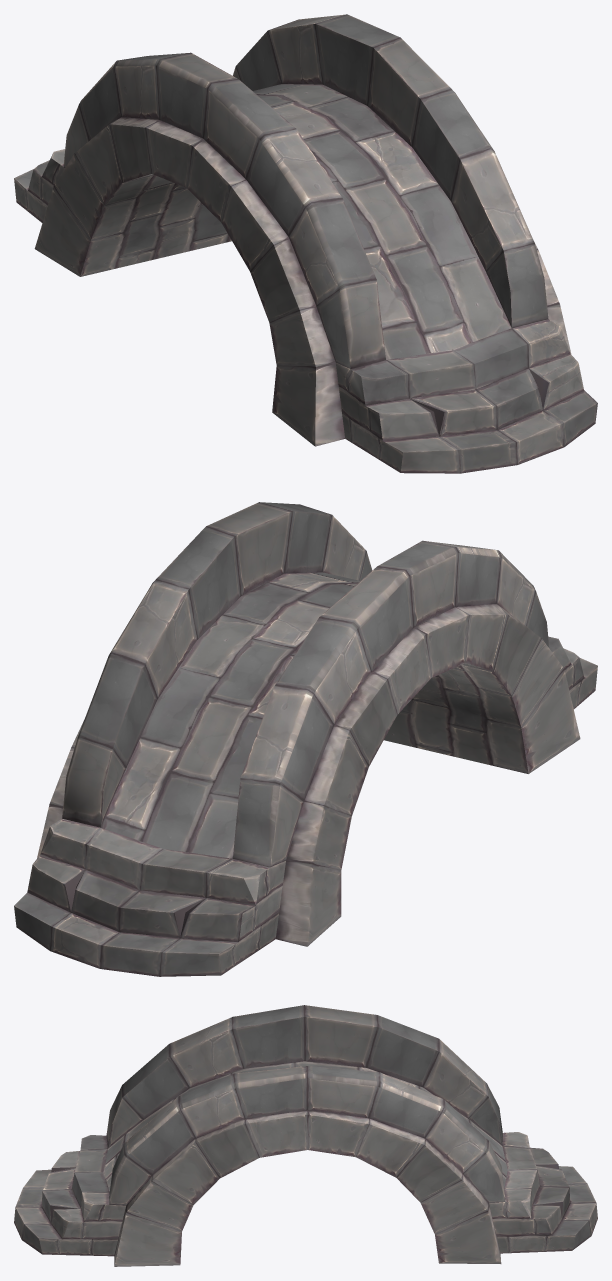
Rendered from SM_PROP_bridge_stone_01.glb.
3 views of the same model, one above another, from view 1: azimuth 30°, elevation 25°; view 2: azimuth 150°, elevation 25°; view 3: azimuth 270°, elevation 25° (orthographic). The views are drawn at different scales.
Visible parts, largest first — view 1: SM_PROP_bridge_stone_01_EXPORT; view 2: SM_PROP_bridge_stone_01_EXPORT; view 3: SM_PROP_bridge_stone_01_EXPORT.
Boxes of the visible parts, left/top/right/bottom form: SM_PROP_bridge_stone_01_EXPORT: left=14, top=14, right=597, bottom=473; SM_PROP_bridge_stone_01_EXPORT: left=14, top=502, right=597, bottom=976; SM_PROP_bridge_stone_01_EXPORT: left=14, top=1005, right=597, bottom=1266.
Size of the model in its own units: 3.57 by 3.22 by 9.33.
Materials: 1 (1 with a texture image).
